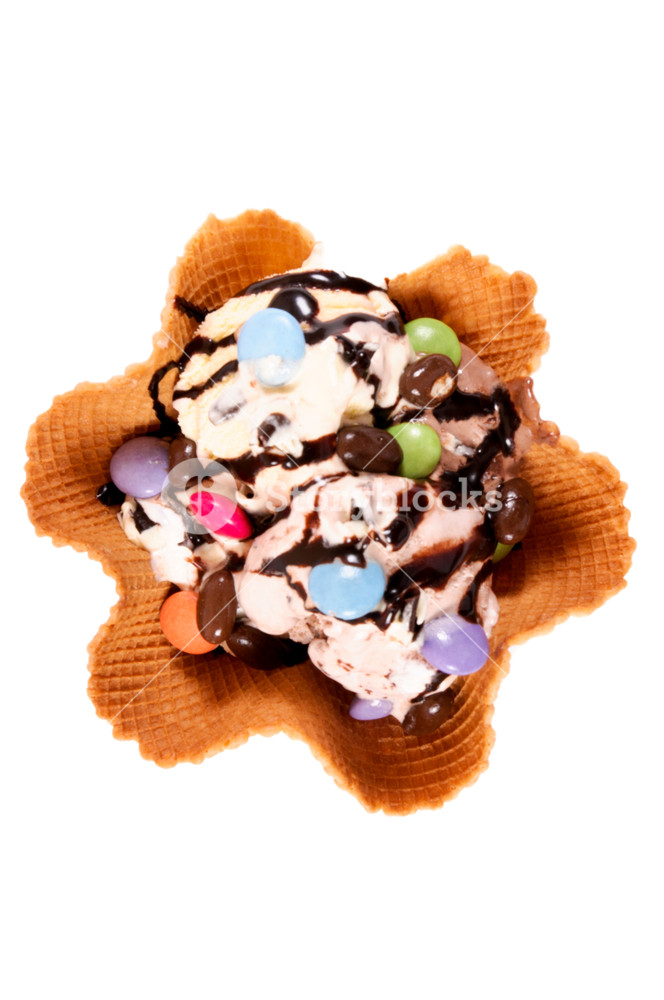ice-cream: (176, 277, 509, 503), (251, 483, 495, 717)
